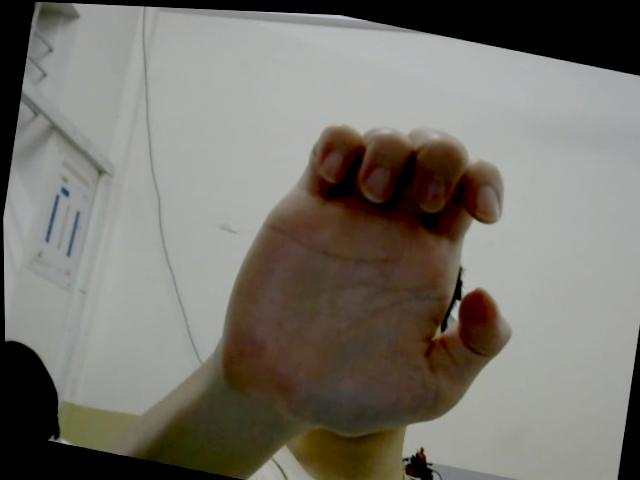E: (207, 87, 542, 455)
